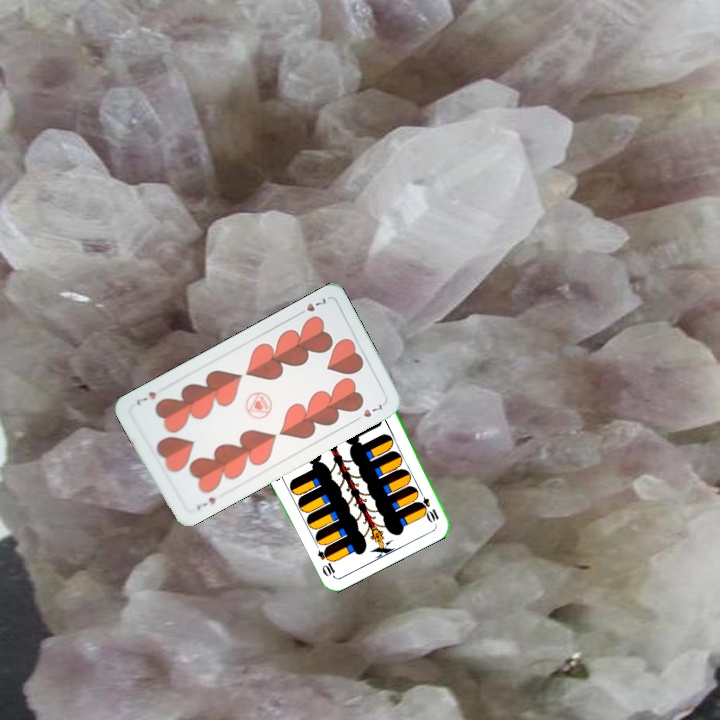E10: (414, 486, 441, 525)
H7: (293, 293, 330, 318), (193, 493, 218, 513)
